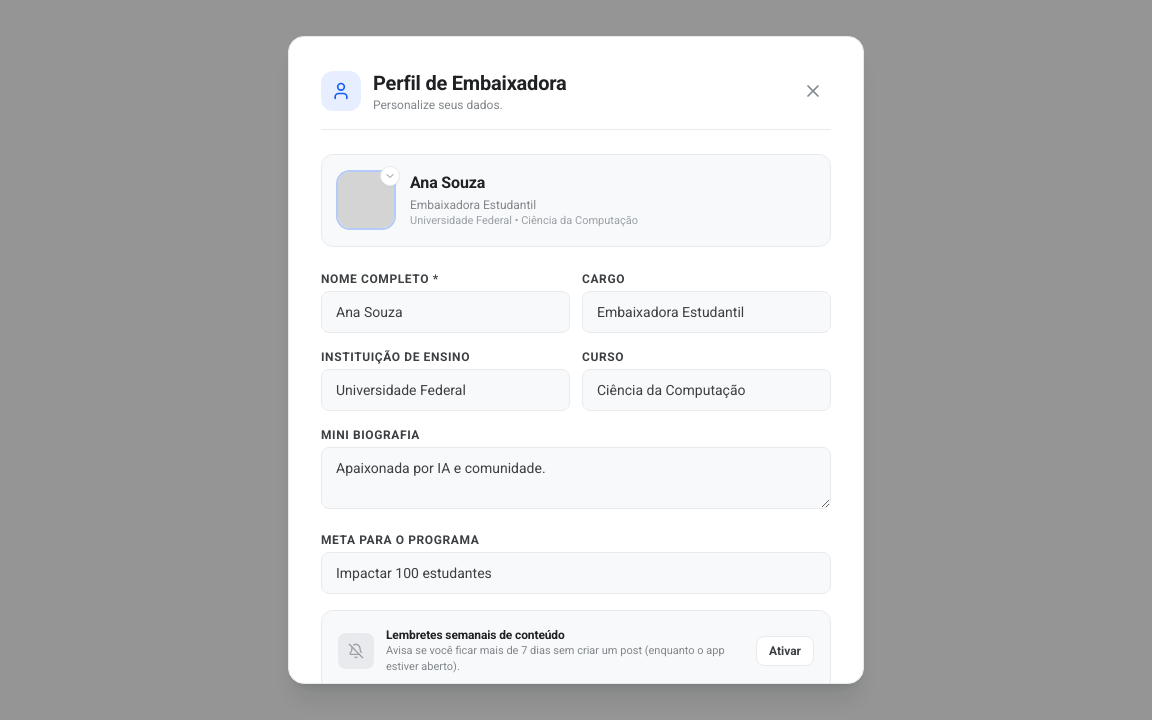
Test: ProfileModal › prefills the form with the current profile and saves edits
The image size is (1152, 720).
Replace the text in the field showing "Ana Souza" with "Ana Beatriz" at (446, 312), box [321, 290, 570, 332]
(page scrolled)
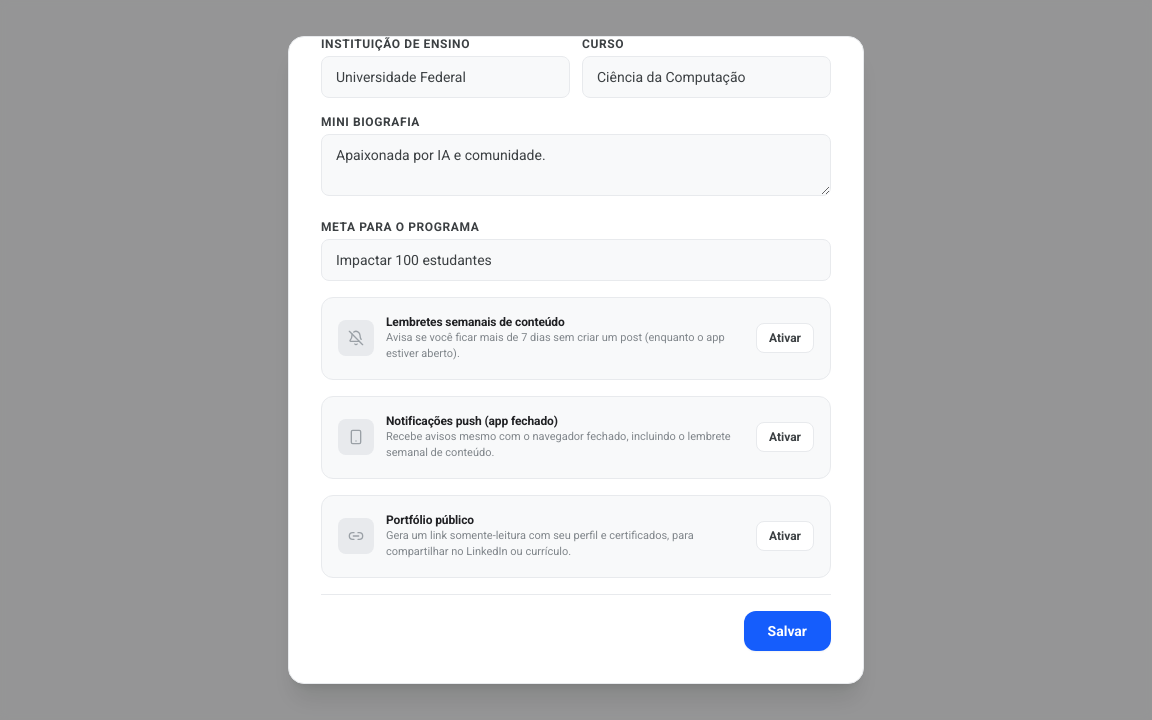
Click the button "Salvar".
click(787, 630)  # box [744, 610, 831, 650]
Wait 800 ms
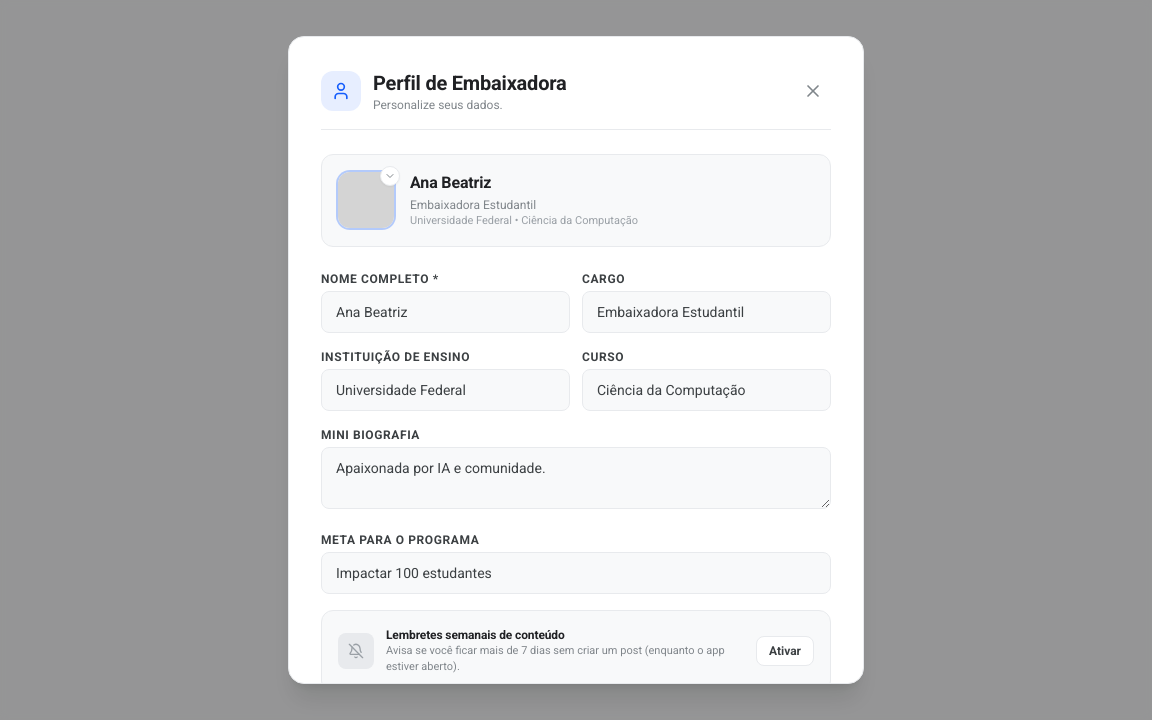
Now the heading "Ana Beatriz" is shown, box [410, 171, 491, 195]
